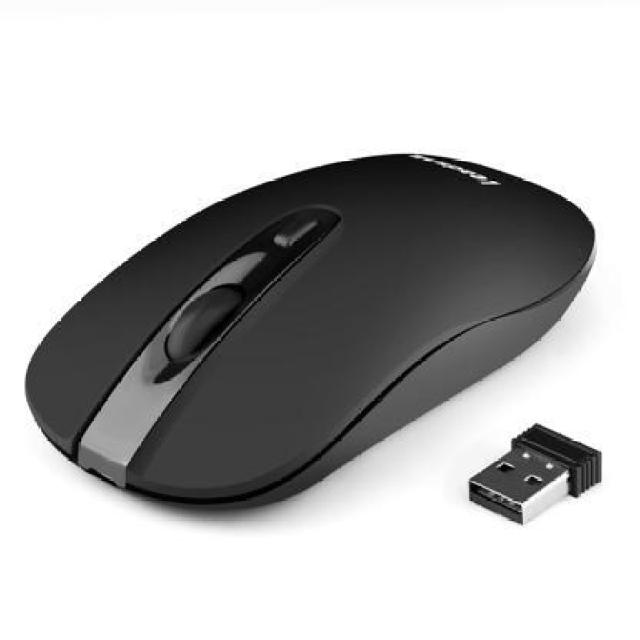not trash: (25, 143, 597, 509), (465, 420, 607, 520)
